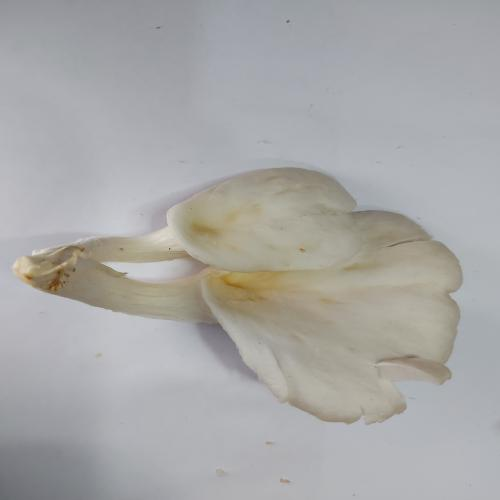Oyster Mushroom: (12, 166, 464, 426)
